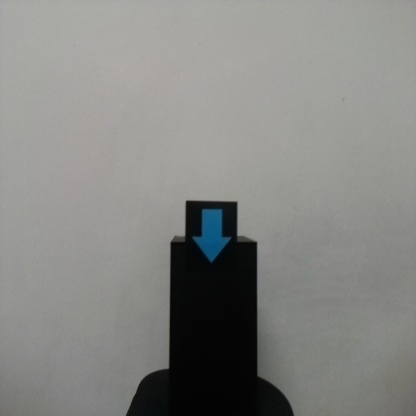id_2: (187, 202, 238, 274)
